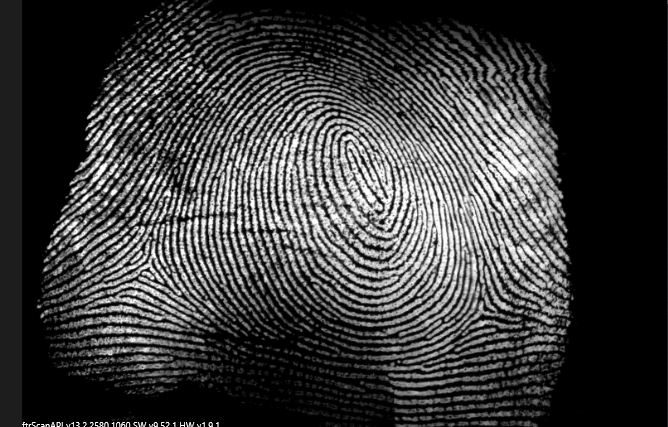deltas: (122, 230, 176, 286), (459, 281, 506, 331)
nucleo: (324, 114, 379, 174)
